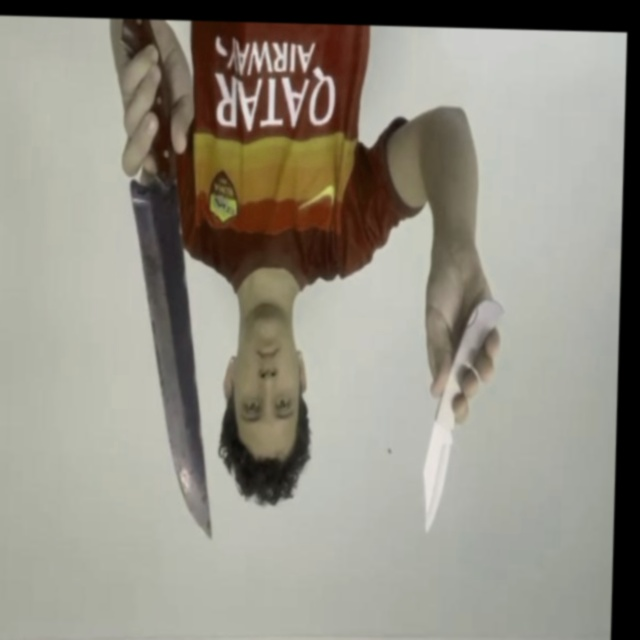Sharp-Object: (121, 179, 222, 538), (421, 424, 454, 538)
